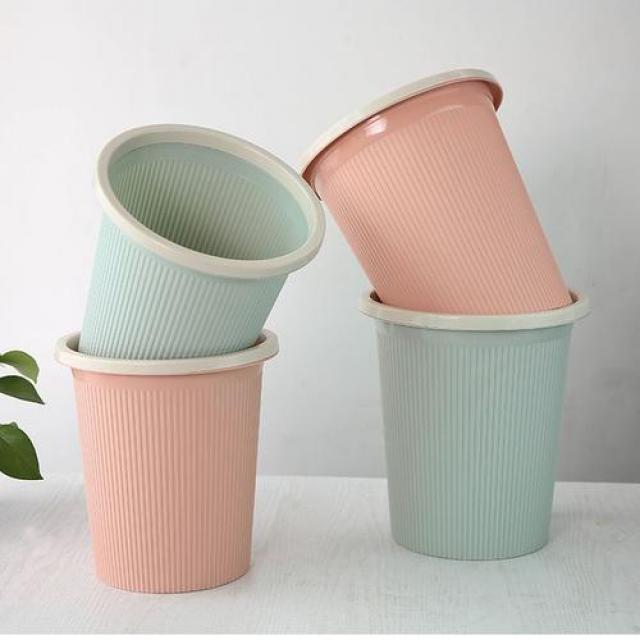Dustbin: (290, 62, 574, 318), (353, 286, 594, 564), (51, 324, 284, 598), (77, 117, 327, 358)
